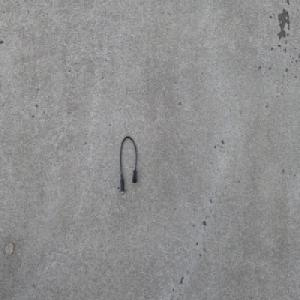Wire: (119, 134, 137, 193)
